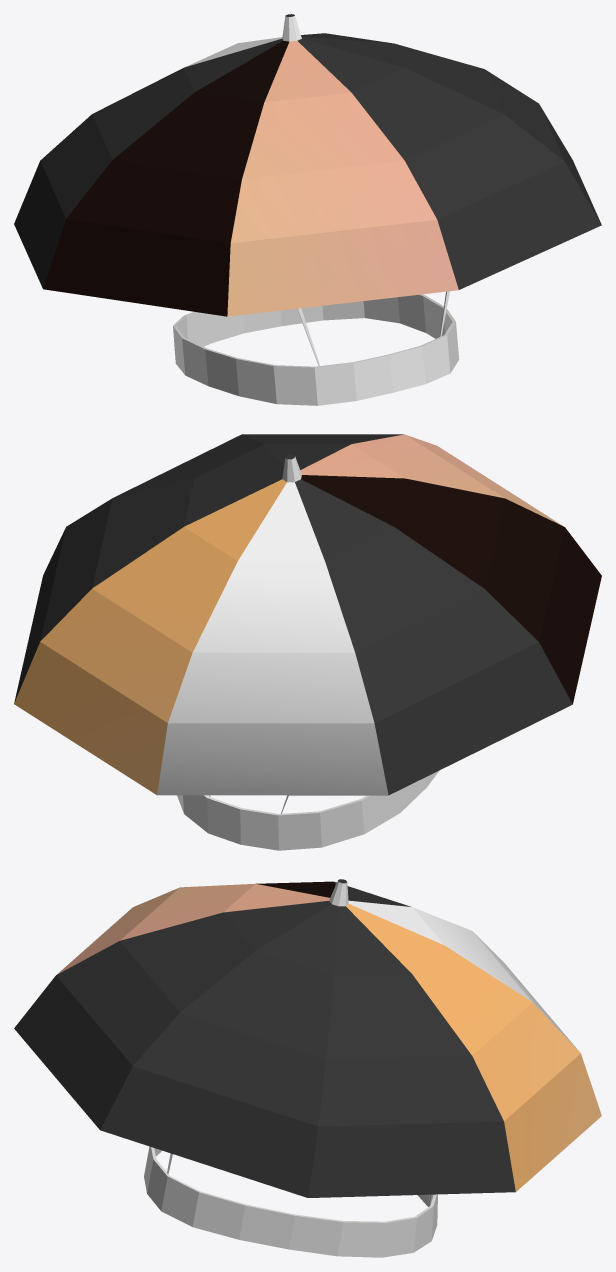
The model's file is Umbrella_Hat.glb.
The picture shows the model from 3 angles, top to bottom: view 1: azimuth 30°, elevation 25°; view 2: azimuth 150°, elevation 25°; view 3: azimuth 270°, elevation 25°; orthographic projection. The views are drawn at different scales.
Visible parts, largest first — view 1: Umbrella_Hat; view 2: Umbrella_Hat; view 3: Umbrella_Hat.
Boxes of the visible parts, x1,y1,x2,y2 form: Umbrella_Hat: [14, 14, 601, 405]; Umbrella_Hat: [14, 434, 601, 850]; Umbrella_Hat: [14, 879, 601, 1257].
Size of what is drawn, in the model's own units: 1.45 by 0.9215 by 1.43.
